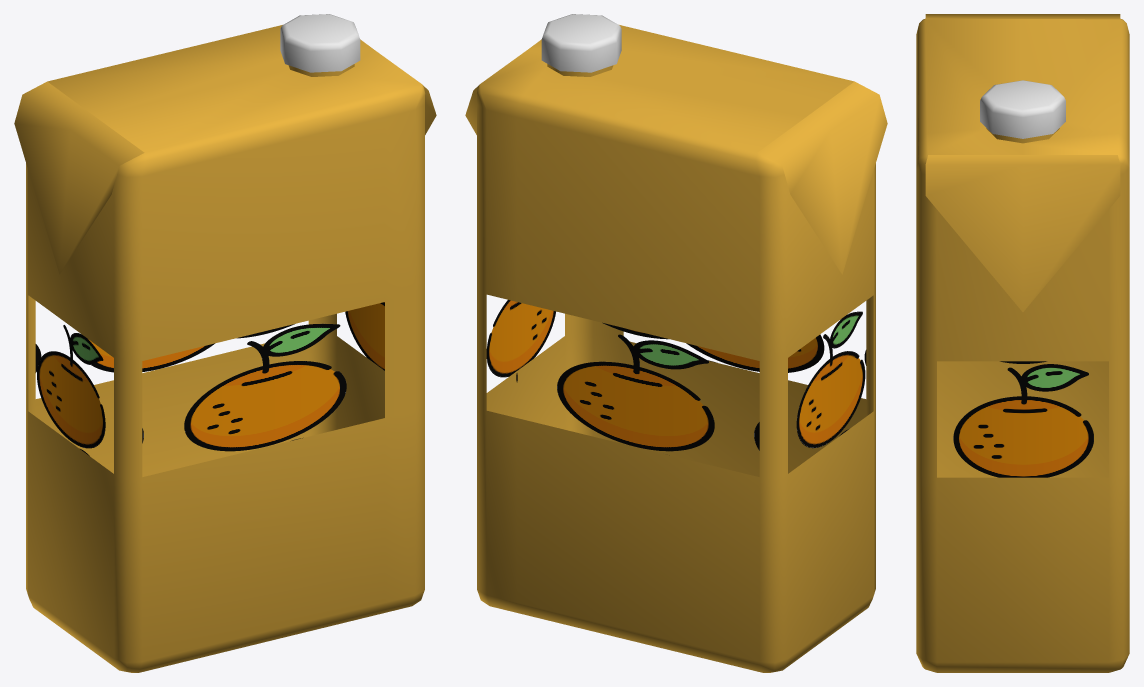
The model's file is Brick de zuma.fbx.
3 views of the same model, side by side, from view 1: azimuth 30°, elevation 25°; view 2: azimuth 150°, elevation 25°; view 3: azimuth 270°, elevation 25° (orthographic).
Parts seen in each view (by area): view 1: brick de zumo; view 2: brick de zumo; view 3: brick de zumo.
Boxes of the visible parts, x1,y1,x2,y2 form: brick de zumo: (14, 14, 436, 672); brick de zumo: (465, 14, 887, 672); brick de zumo: (916, 14, 1129, 672).
Size of the model in its own units: 14.29 by 22.89 by 7.95.
Materials: 3 (1 with a texture image).
